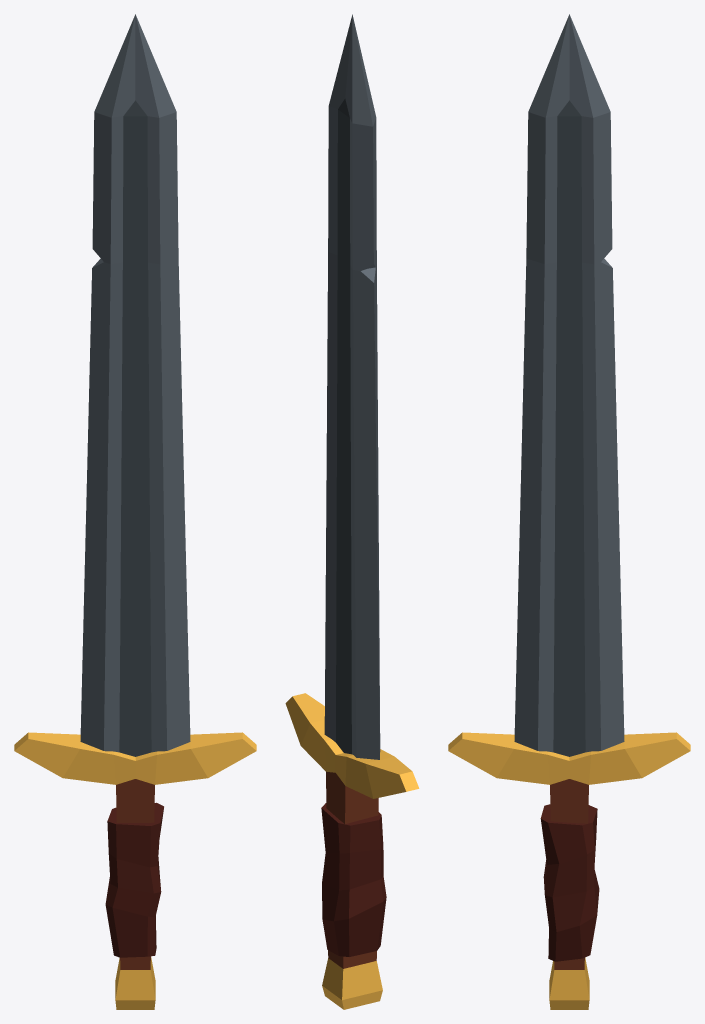
Rendered from broadsword.fbx.
The picture shows the model from 3 angles, left to right: view 1: azimuth 90°, elevation 25°; view 2: azimuth 210°, elevation 25°; view 3: azimuth 270°, elevation 25°; orthographic projection.
Parts seen in each view (by area): view 1: broadsword; view 2: broadsword; view 3: broadsword.
Part boxes in pixels (x1,y1,x2,y2): broadsword: (14, 14, 256, 1009); broadsword: (285, 14, 419, 1009); broadsword: (448, 14, 690, 1009).
Size of the model in its own units: 3.27 by 65.22 by 14.52.
